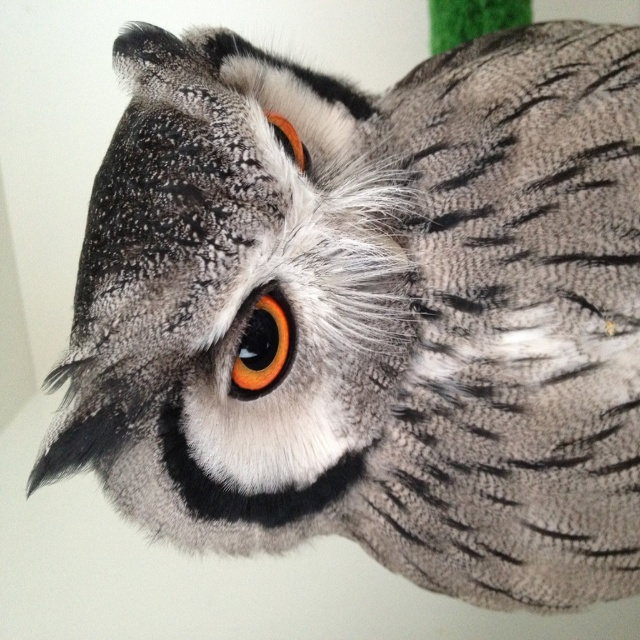Owl: (22, 16, 640, 623)
